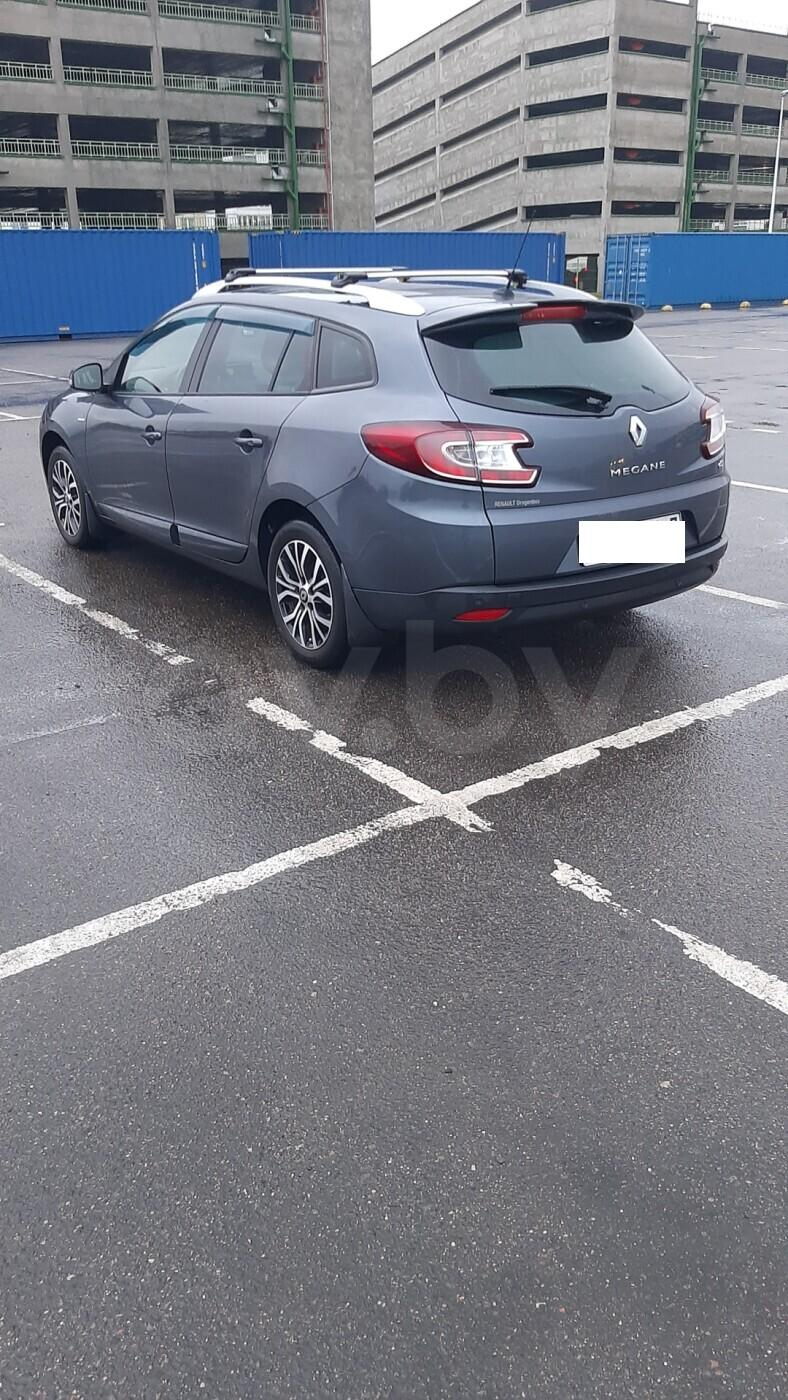Megane_2014-2016: (42, 268, 724, 672)
